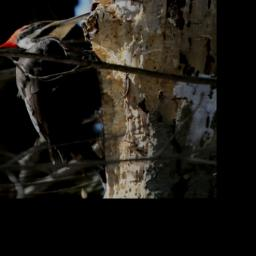Woodpecker: (0, 12, 104, 190)
